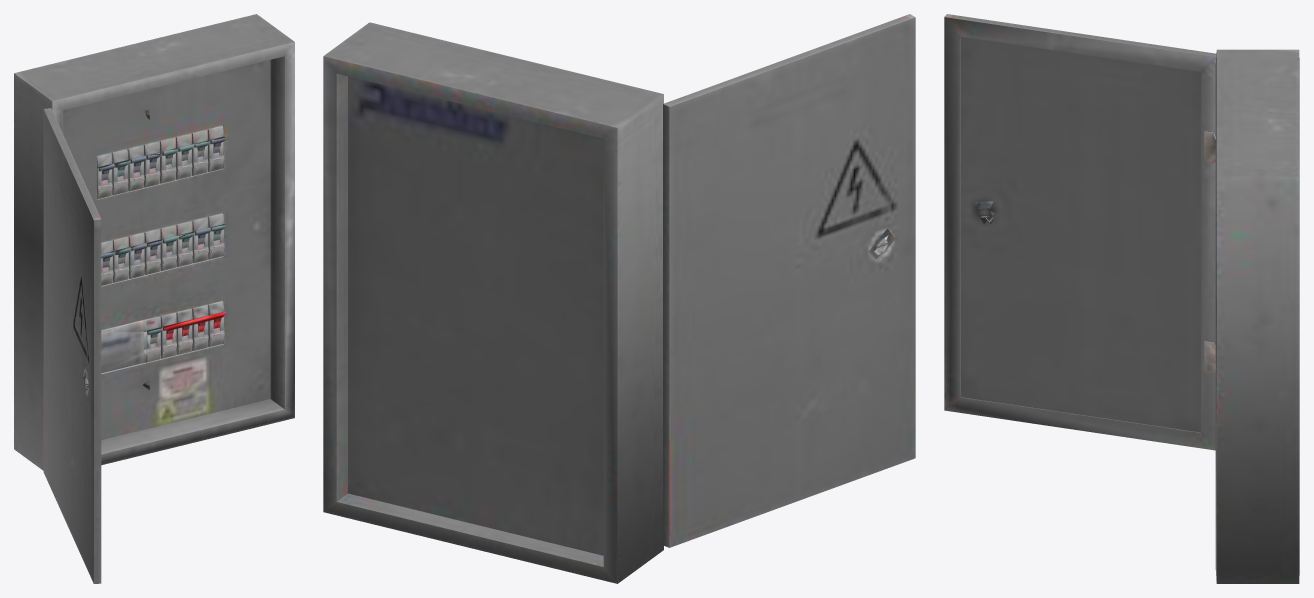
File: power_box.glb
3 renders of one model, left to right at view 1: azimuth 30°, elevation 25°; view 2: azimuth 150°, elevation 25°; view 3: azimuth 270°, elevation 25°, orthographic. The views are drawn at different scales.
Visible parts, largest first — view 1: power_box; view 2: power_box; view 3: power_box.
Boxes of the visible parts, left/top/right/bottom form: power_box: left=14, top=14, right=294, bottom=583; power_box: left=323, top=14, right=915, bottom=583; power_box: left=944, top=14, right=1299, bottom=583.
Bounding box in the file's own units: 0.456 × 0.5031 × 0.399.
1 material, 1 textured.
